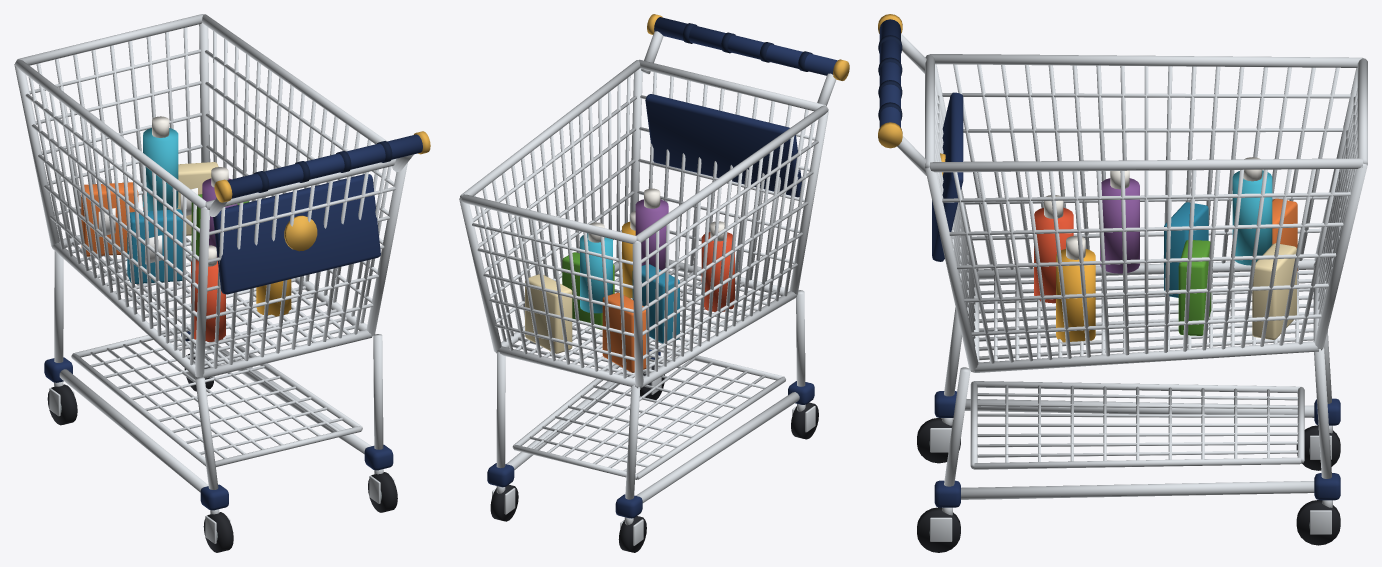
The model's file is ShoppingCart.fbx.
The picture shows the model from 3 angles, left to right: view 1: azimuth 30°, elevation 25°; view 2: azimuth 150°, elevation 25°; view 3: azimuth 270°, elevation 25°; orthographic projection. The views are drawn at different scales.
Parts seen in each view (by area): view 1: Cart, Item_2, Item_7, Item_5, Item_0, Item_6, Item_1, Item_4; view 2: Cart, Item_6, Item_5, Item_7, Item_0, Item_4, Item_2, Item_3, Item_1; view 3: Cart, Item_4, Item_6, Item_1, Item_7, Item_0, Item_3, Item_2, Item_5.
Part boxes in pixels (x1,y1,x2,y2): Cart: (14,14,430,552); Item_2: (127,209,182,283); Item_7: (143,116,178,210); Item_5: (81,182,138,256); Item_0: (191,245,225,341); Item_6: (176,162,218,235); Item_1: (256,279,291,316); Item_4: (202,167,237,256); Cart: (459,14,849,552); Item_6: (525,274,572,353); Item_5: (602,292,646,372); Item_7: (580,222,612,313); Item_0: (701,221,734,311); Item_4: (635,188,668,270); Item_2: (632,264,679,343); Item_3: (562,252,614,329); Item_1: (622,211,635,298); Cart: (878,14,1367,552); Item_4: (1100,170,1139,273); Item_6: (1252,243,1296,339); Item_1: (1056,236,1095,342); Item_7: (1232,157,1272,265); Item_0: (1034,195,1073,303); Item_3: (1178,240,1211,335); Item_2: (1164,202,1208,297); Item_5: (1272,198,1297,271).
Size of the model in its own units: 0.6039 by 1.09 by 1.11.
